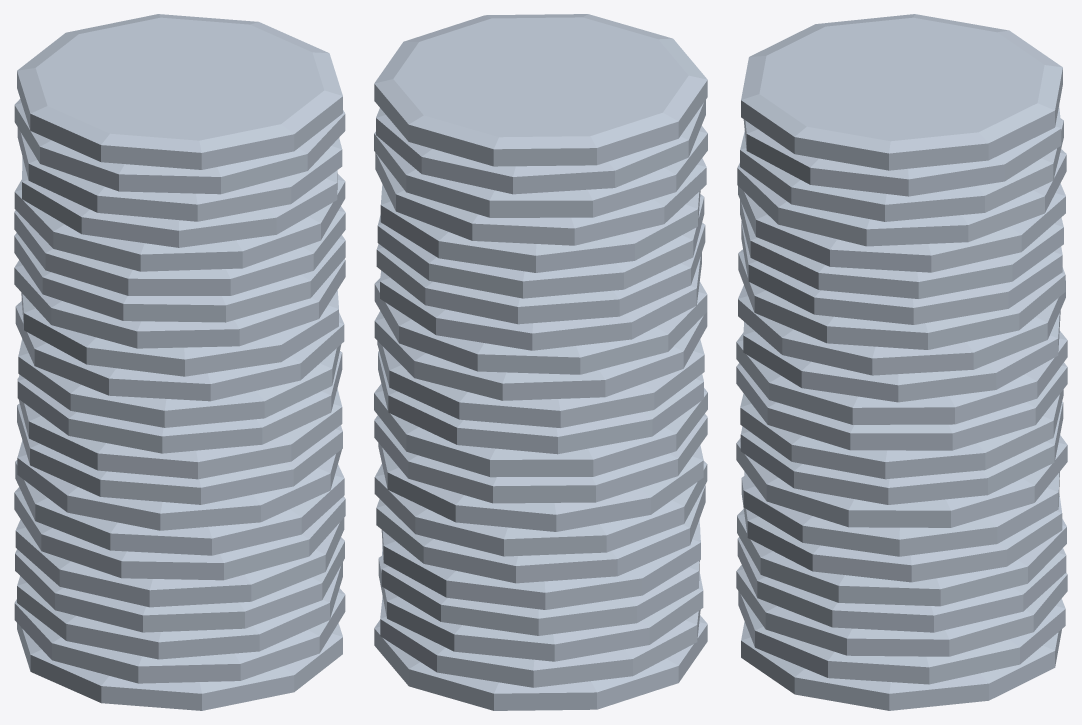
File: SilverStack.fbx
3 views of the same model, side by side, from view 1: azimuth 30°, elevation 25°; view 2: azimuth 150°, elevation 25°; view 3: azimuth 270°, elevation 25° (orthographic).
Parts seen in each view (by area): view 1: SilverStack; view 2: SilverStack; view 3: SilverStack.
Boxes of the visible parts, left/top/right/bottom form: SilverStack: left=14, top=14, right=345, bottom=710; SilverStack: left=374, top=14, right=707, bottom=710; SilverStack: left=736, top=14, right=1067, bottom=710.
Size of the model in its own units: 7 by 13.2 by 7.
